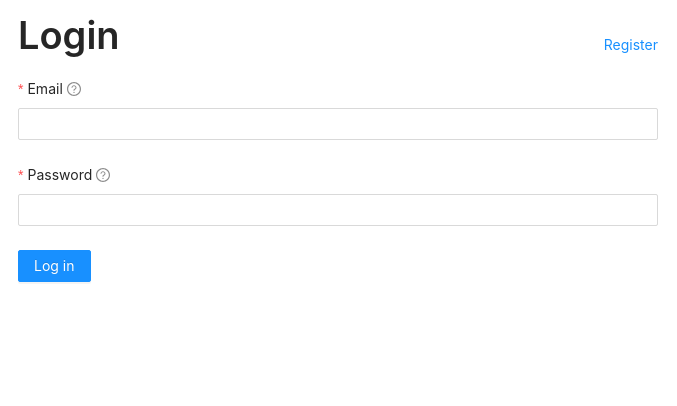
it: Login page › should show email error message
Expected: the text "Can't find the user" is not shown
Type "kovchy@gmail.com" into the field at x=338, y=124, box [18,108,658,140]
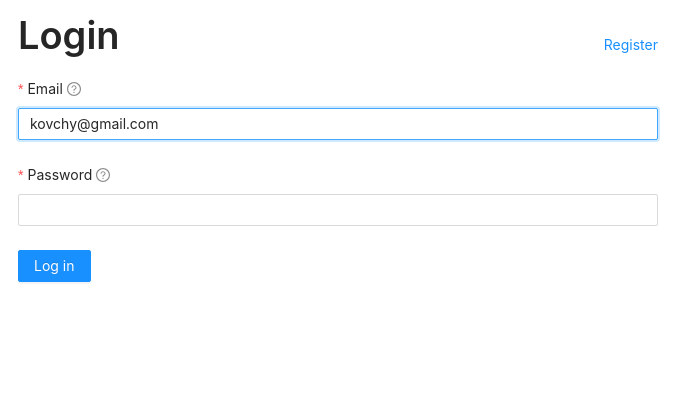
Type "123123" into the password field labelled "Password" at x=338, y=210, box [18,194,658,226]
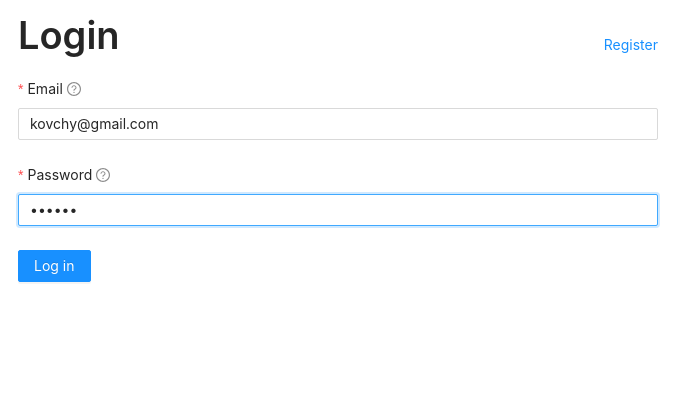
Click the button at x=54, y=266, box [18,250,90,282]
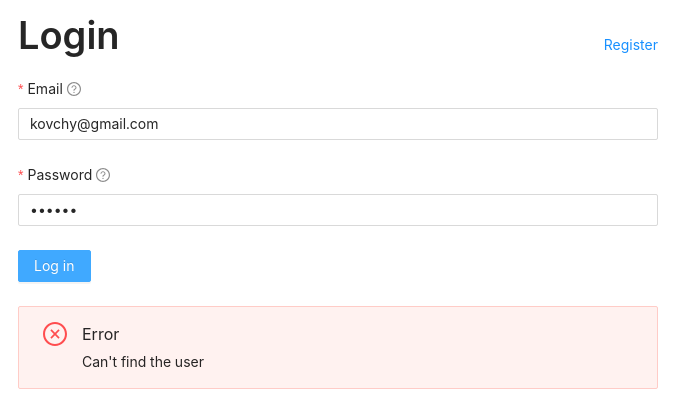
Expected: the text "Can't find the user" is shown, [82,353,204,370]
